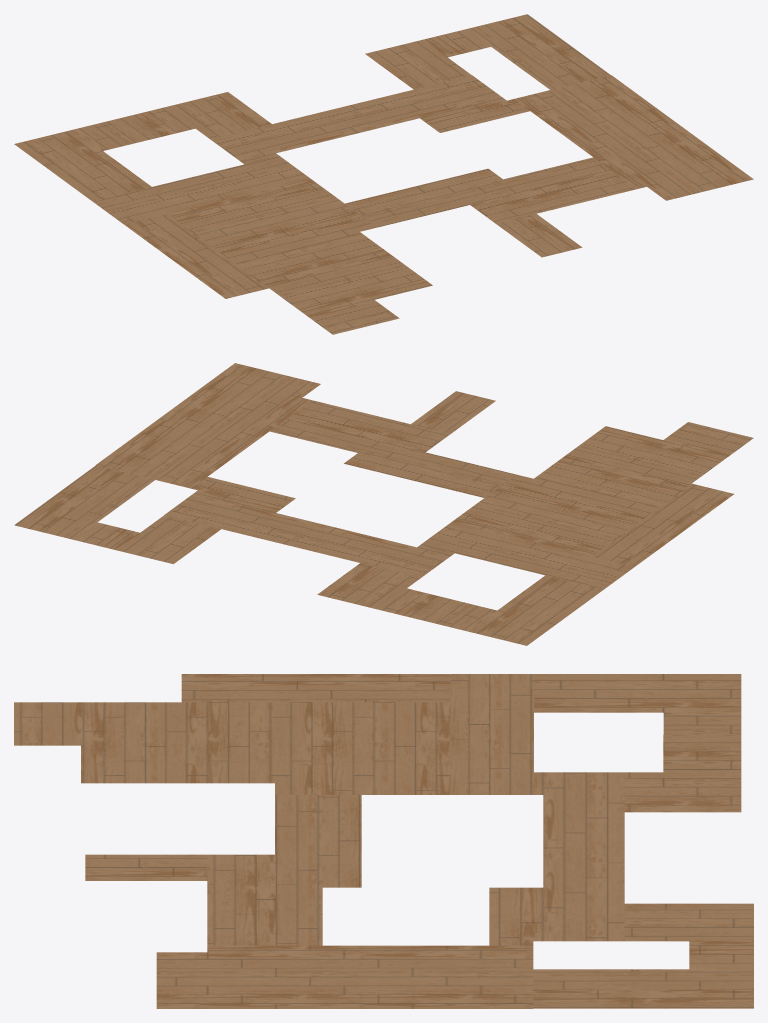
Rendered from Floor.fbx.
3 views of the same model, one above another, from view 1: azimuth 30°, elevation 25°; view 2: azimuth 150°, elevation 25°; view 3: azimuth 270°, elevation 25° (orthographic). The views are drawn at different scales.
Parts seen in each view (by area): view 1: floor01; view 2: floor01; view 3: floor01.
Boxes of the visible parts, box(x1,y1,x2,y2) form: floor01: box(14, 14, 753, 334); floor01: box(14, 363, 753, 645); floor01: box(14, 674, 753, 1008).
Bounding box in the file's own units: 3067 × 0.000467 × 2866.
Materials: 1 (1 with a texture image).
